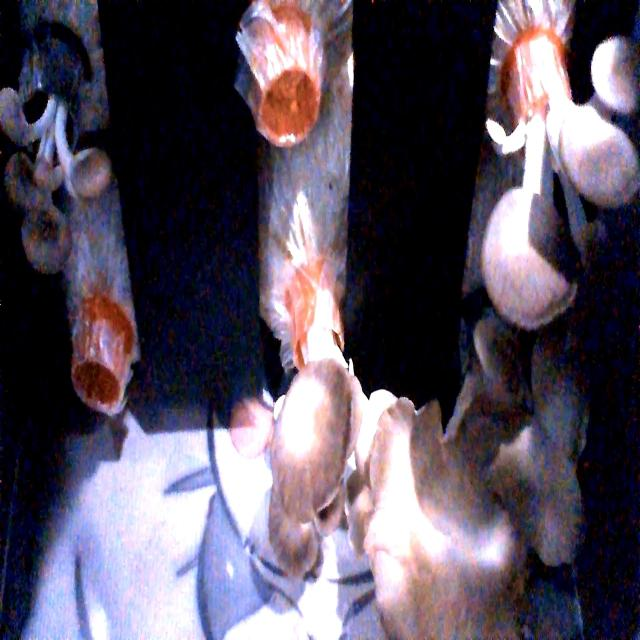big: (352, 359, 590, 640), (496, 25, 640, 337), (255, 316, 378, 580)
nfound: (245, 52, 344, 167), (70, 336, 132, 438)
small: (0, 87, 122, 283)
